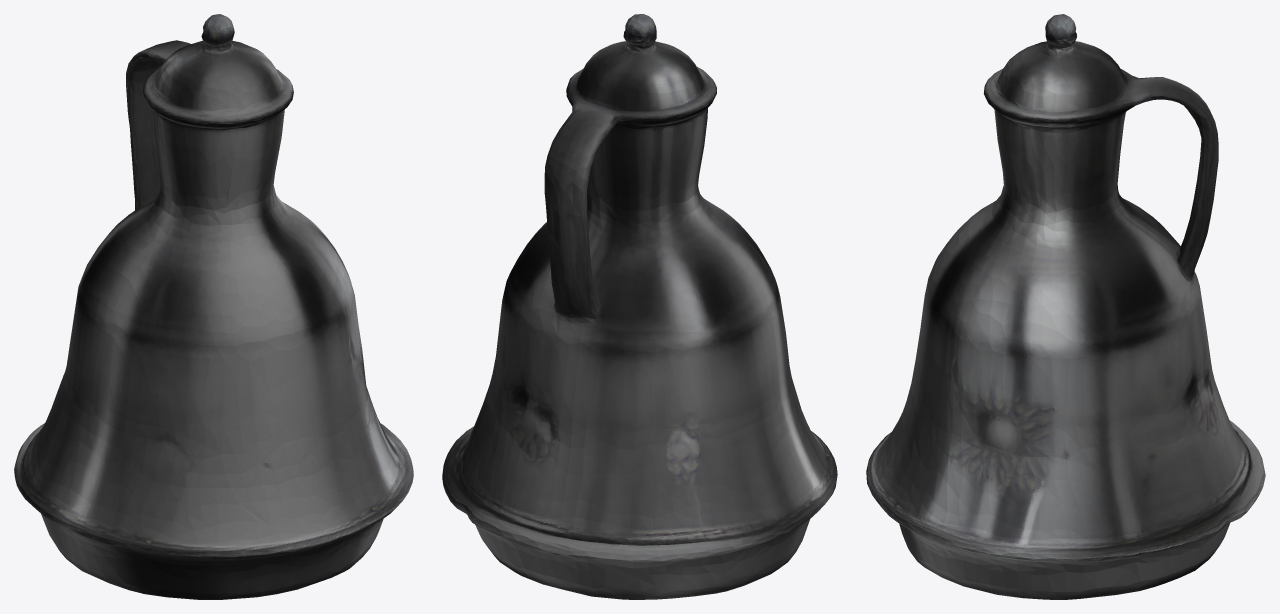
Rendered from gkioumi4.fbx.
3 views of the same model, side by side, from view 1: azimuth 30°, elevation 25°; view 2: azimuth 150°, elevation 25°; view 3: azimuth 270°, elevation 25° (orthographic).
Visible parts, largest first — view 1: world; view 2: world; view 3: world.
Boxes of the visible parts, x1,y1,x2,y2 form: world: (14,14,413,599); world: (442,14,837,599); world: (866,14,1265,599).
Size of the model in its own units: 43.08 by 62.24 by 43.13.
1 material, 1 textured.
